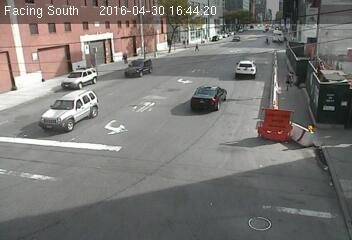neg: (167, 135, 182, 155), (159, 5, 173, 24), (116, 116, 130, 134), (60, 65, 73, 82), (171, 95, 183, 110), (220, 73, 231, 88), (91, 10, 98, 19), (243, 56, 247, 61)
pos: (281, 68, 299, 92), (118, 49, 131, 66), (190, 39, 201, 54), (263, 35, 272, 47)
